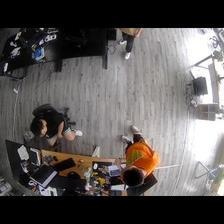normal: (117, 124, 159, 188), (26, 107, 82, 147), (117, 26, 142, 59)
